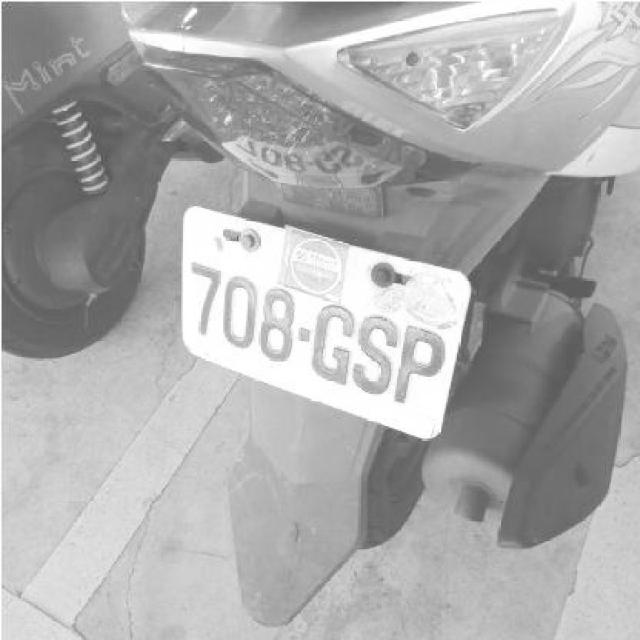0: (219, 272, 258, 351), (294, 322, 310, 343)
7: (186, 257, 222, 335)
8: (256, 285, 295, 362)
G: (310, 300, 357, 385)
P: (391, 320, 446, 404)
S: (347, 312, 398, 398)
